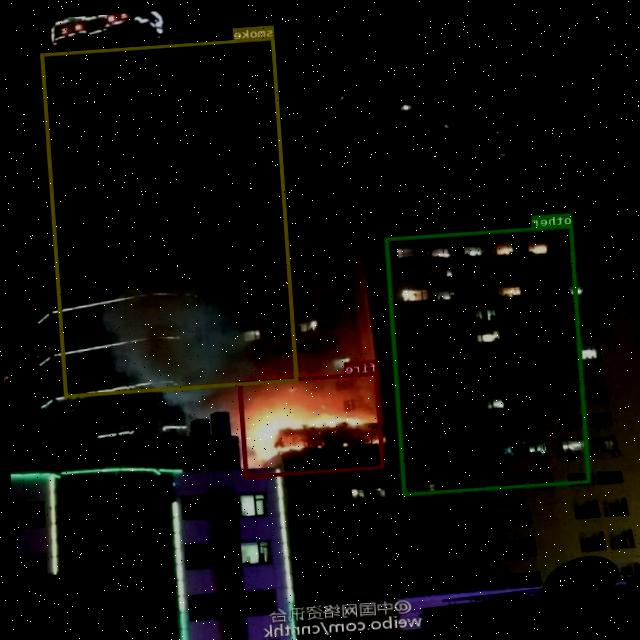fire: (239, 371, 385, 478)
smoke: (40, 36, 298, 397)
